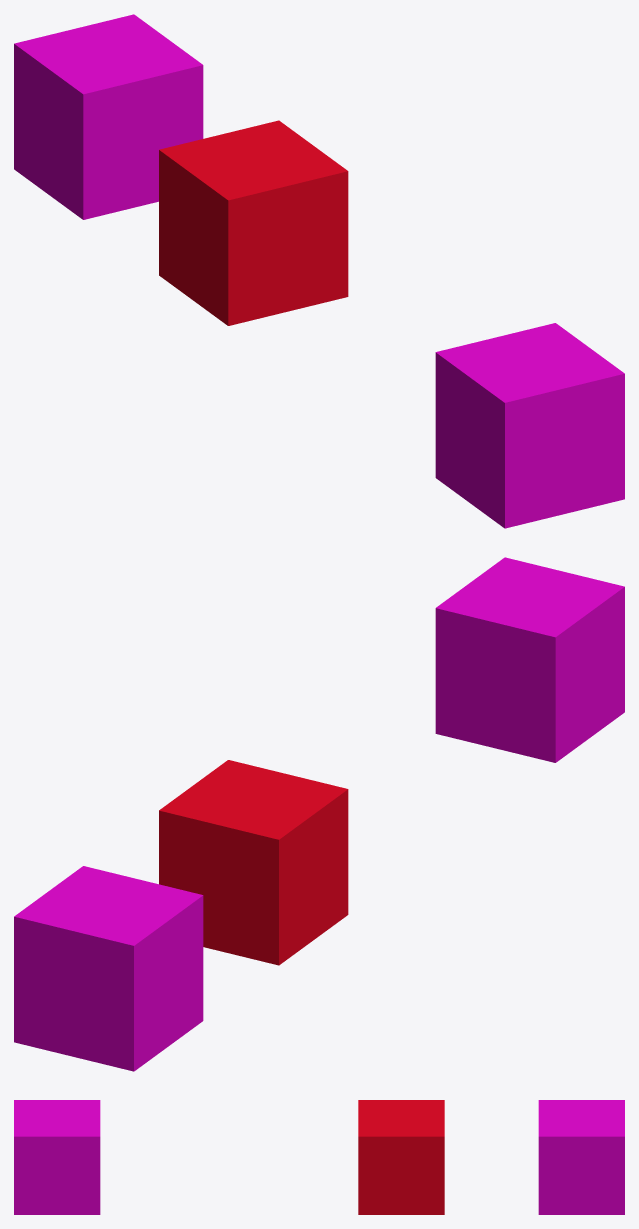
File: asset.glb
3 renders of one model, top to bottom at view 1: azimuth 30°, elevation 25°; view 2: azimuth 150°, elevation 25°; view 3: azimuth 270°, elevation 25°, orthographic. The views are drawn at different scales.
Parts seen in each view (by area): view 1: Cube.001; view 2: Cube.001; view 3: Cube.001.
Boxes of the visible parts, left/top/right/bottom form: Cube.001: left=14, top=14, right=624, bottom=528; Cube.001: left=14, top=557, right=624, bottom=1071; Cube.001: left=14, top=1100, right=624, bottom=1214.
Bounding box in the file's own units: 1.71 × 1.71 × 12.11.
